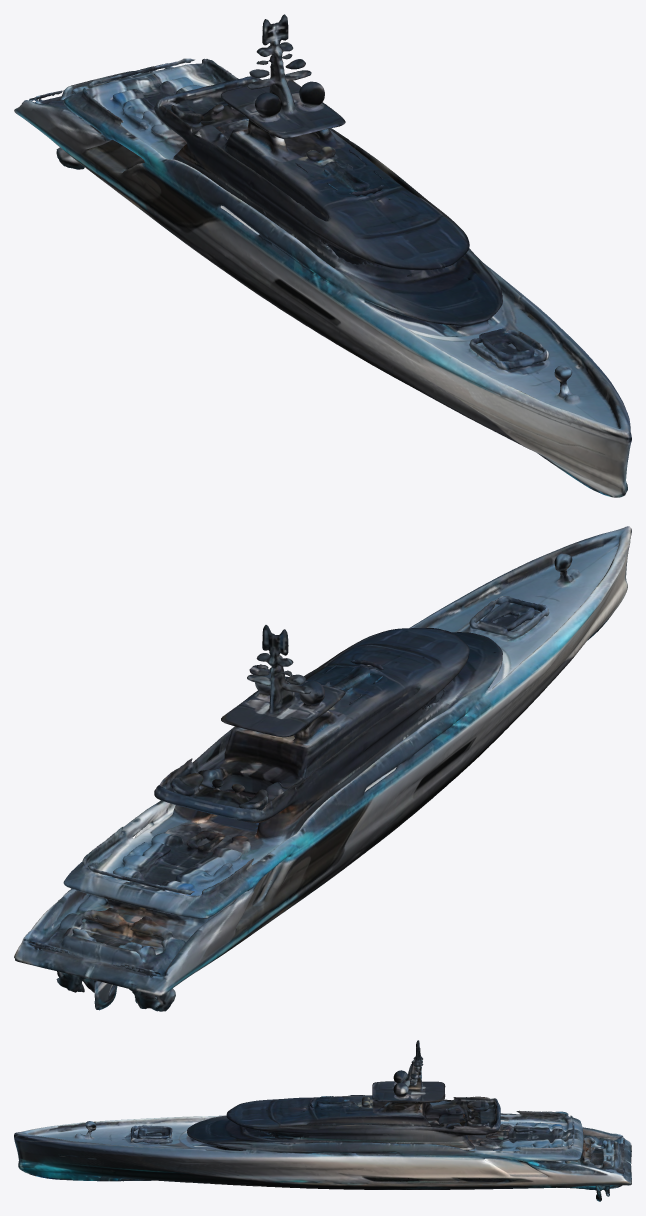
The model's file is ultra-futuristic_luxury_yacht.glb.
3 renders of one model, top to bottom at view 1: azimuth 30°, elevation 25°; view 2: azimuth 150°, elevation 25°; view 3: azimuth 270°, elevation 25°, orthographic. The views are drawn at different scales.
Visible parts, largest first — view 1: Model No12_0; view 2: Model No12_0; view 3: Model No12_0.
Part boxes in pixels (x1=…): Model No12_0: x1=14, y1=14, x2=631, y2=497; Model No12_0: x1=14, y1=526, x2=631, y2=1011; Model No12_0: x1=14, y1=1040, x2=631, y2=1201.
Bounding box in the file's own units: 7.61 × 12.25 × 46.58.
Materials: 1 (1 with a texture image).
